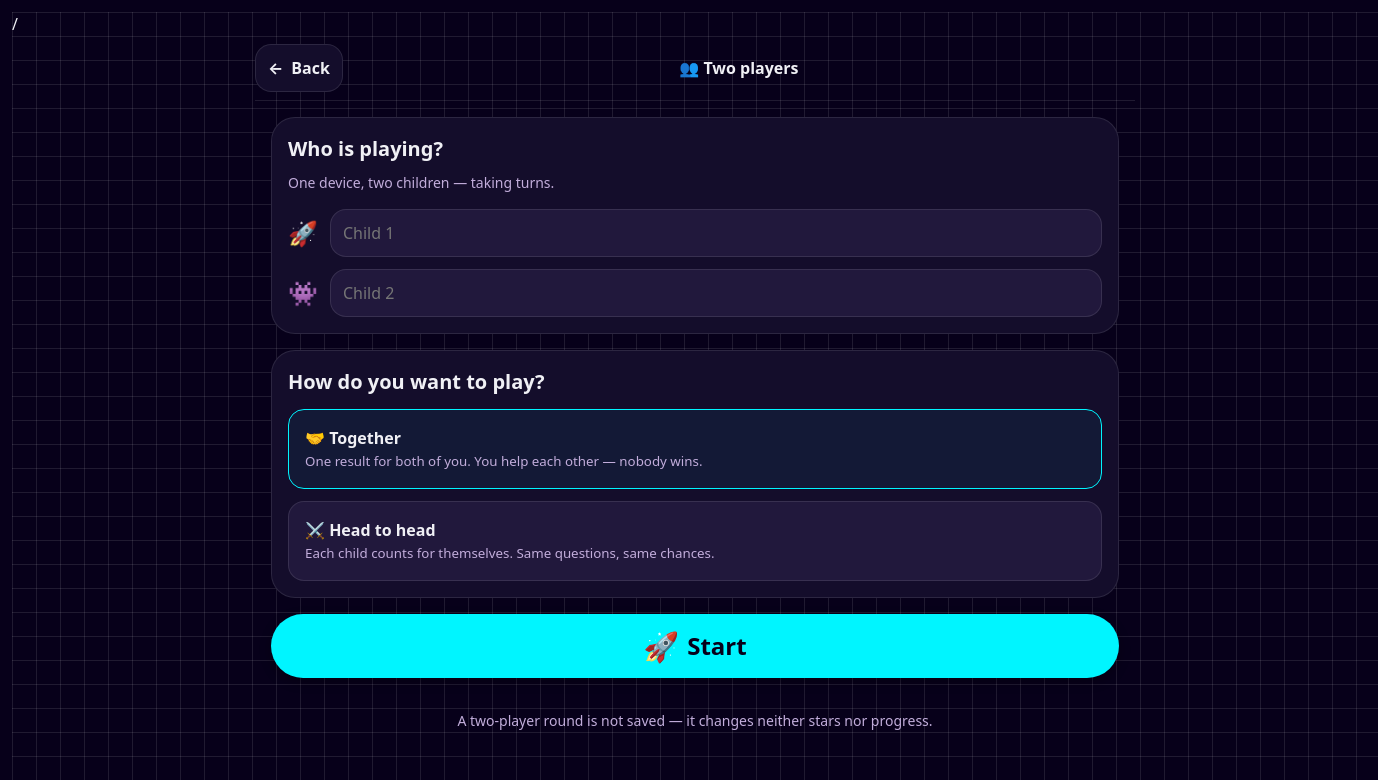
DuelSetupPage › carries the names and the shape into the round
The width and height of the screenshot is (1378, 780).
Type "Nova" into the field named "Child 1" at (716, 233), box [330,209,1102,257]
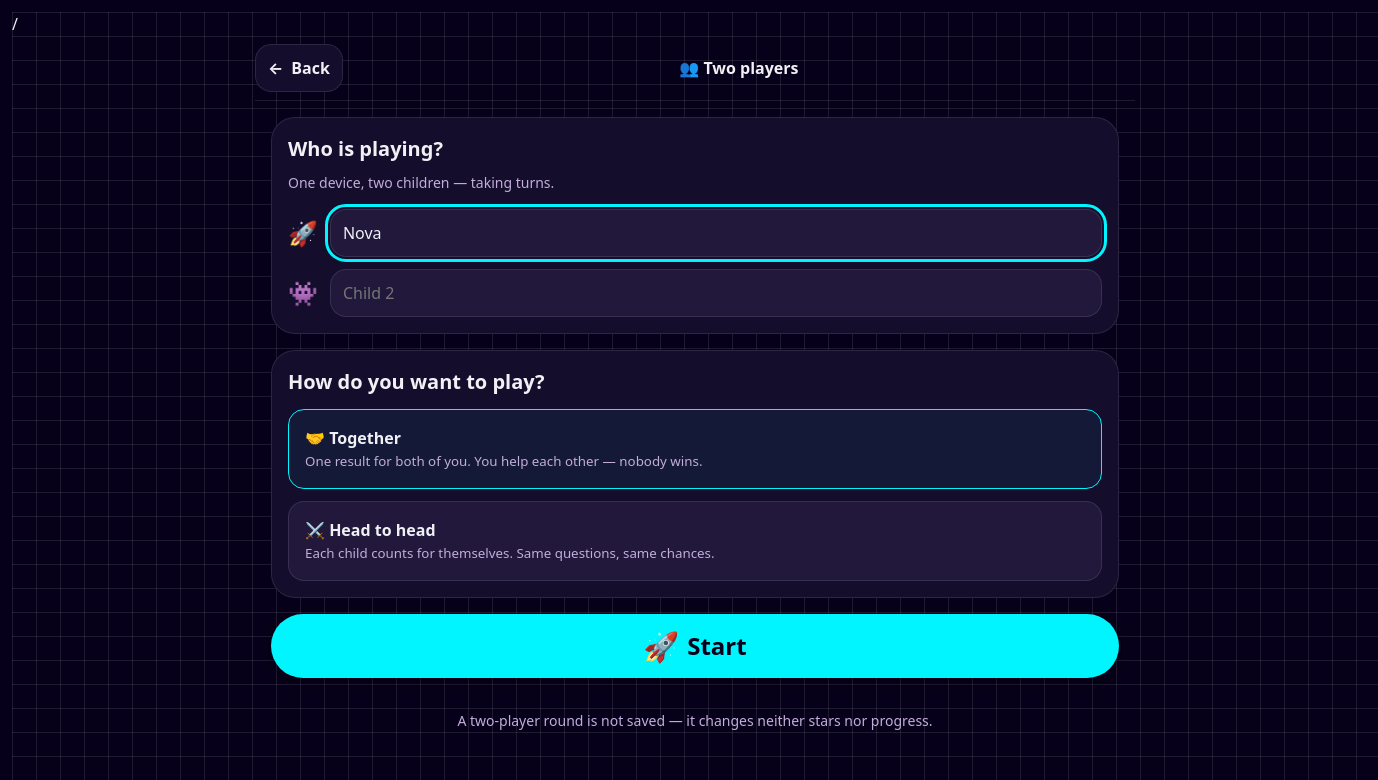
Type "Kim" into the field named "Child 2" at (716, 293), box [330,269,1102,317]
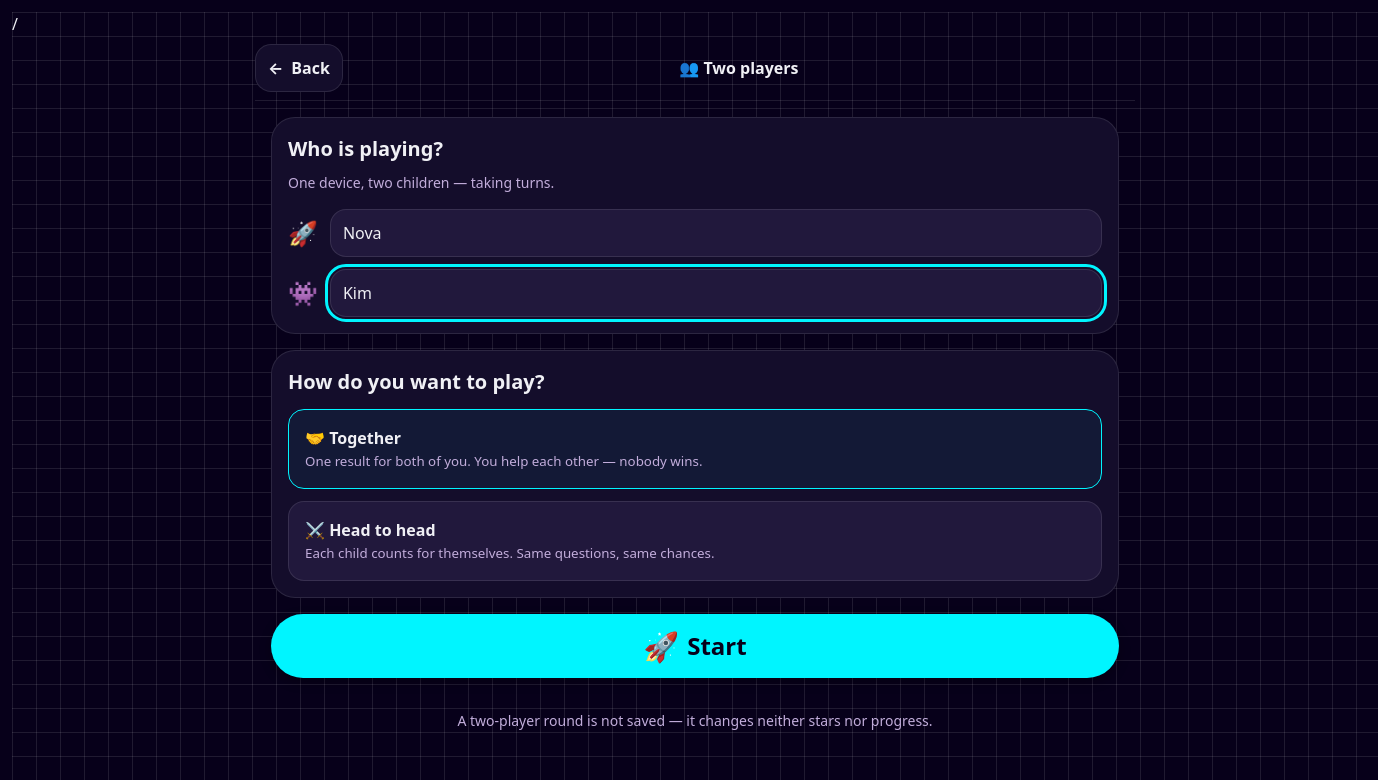
Click the button "Head to head" at (695, 541), box [288,501,1102,581]
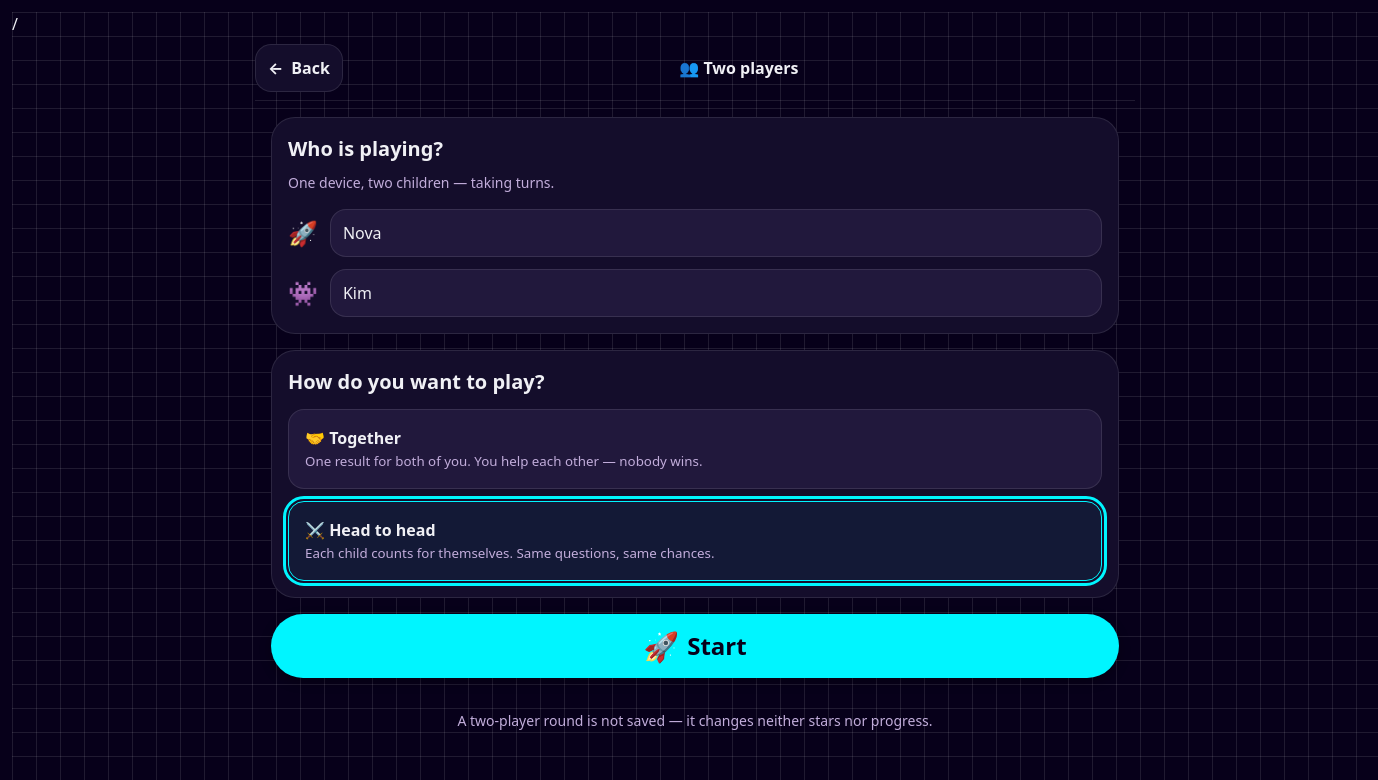
Click the button "🚀 Start" at (695, 646), box [271,614,1119,678]
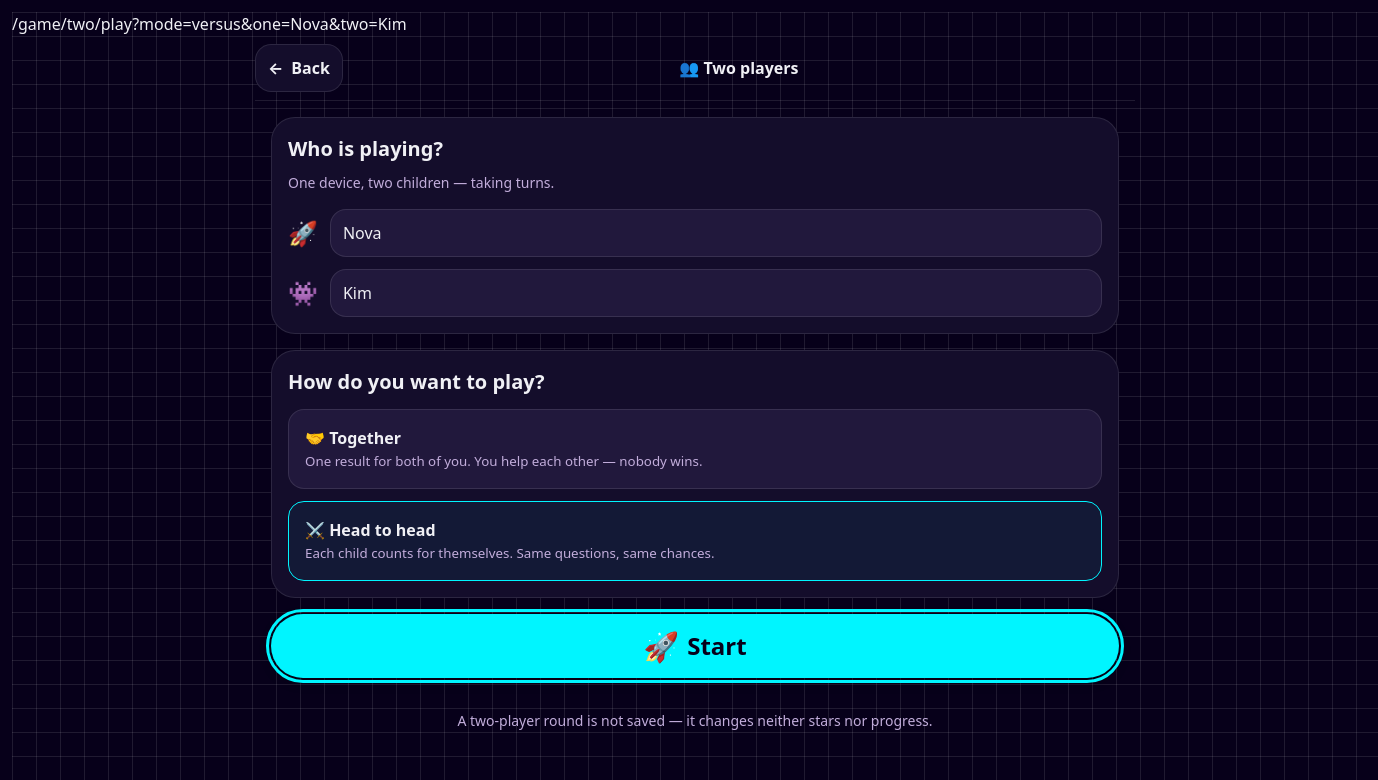
Expected: the text with test id "test-location" shows "/game/two/play", [12,13,132,35]
Expected: the text with test id "test-location" shows "mode=versus", [132,13,407,35]
Expected: the text with test id "test-location" shows "one=Nova", [132,13,407,35]
